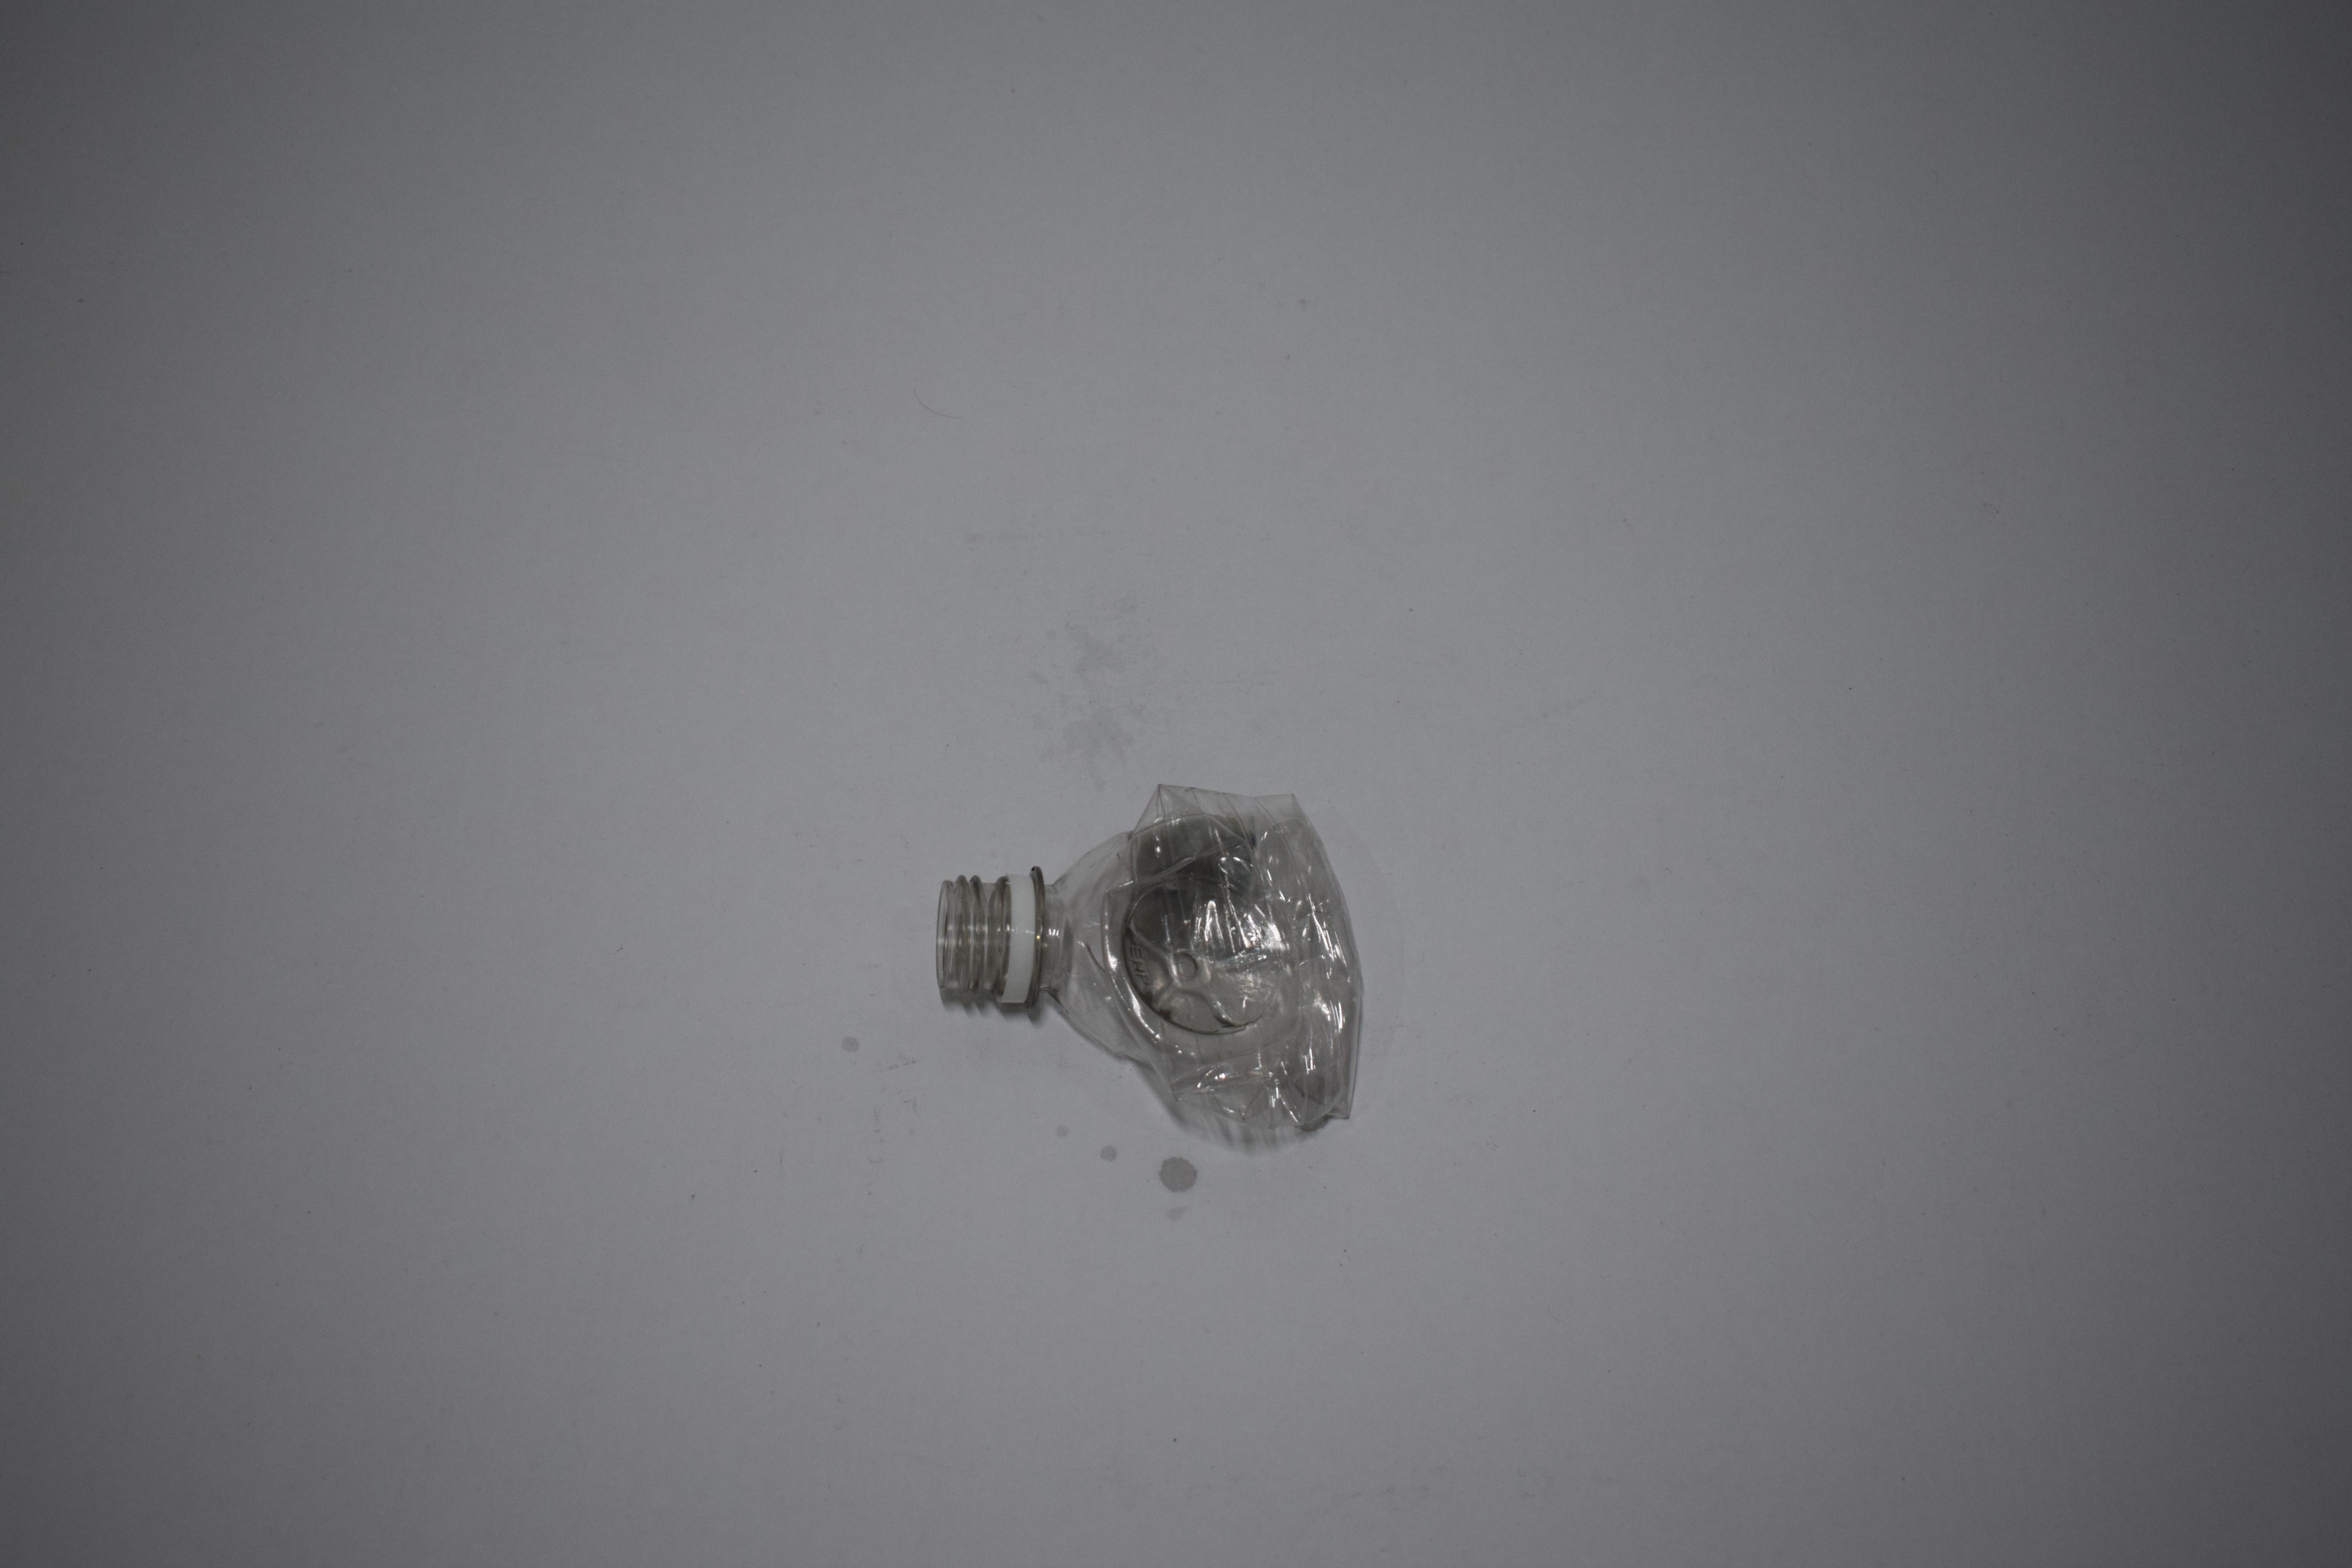bottle: (924, 800, 1367, 1113)
